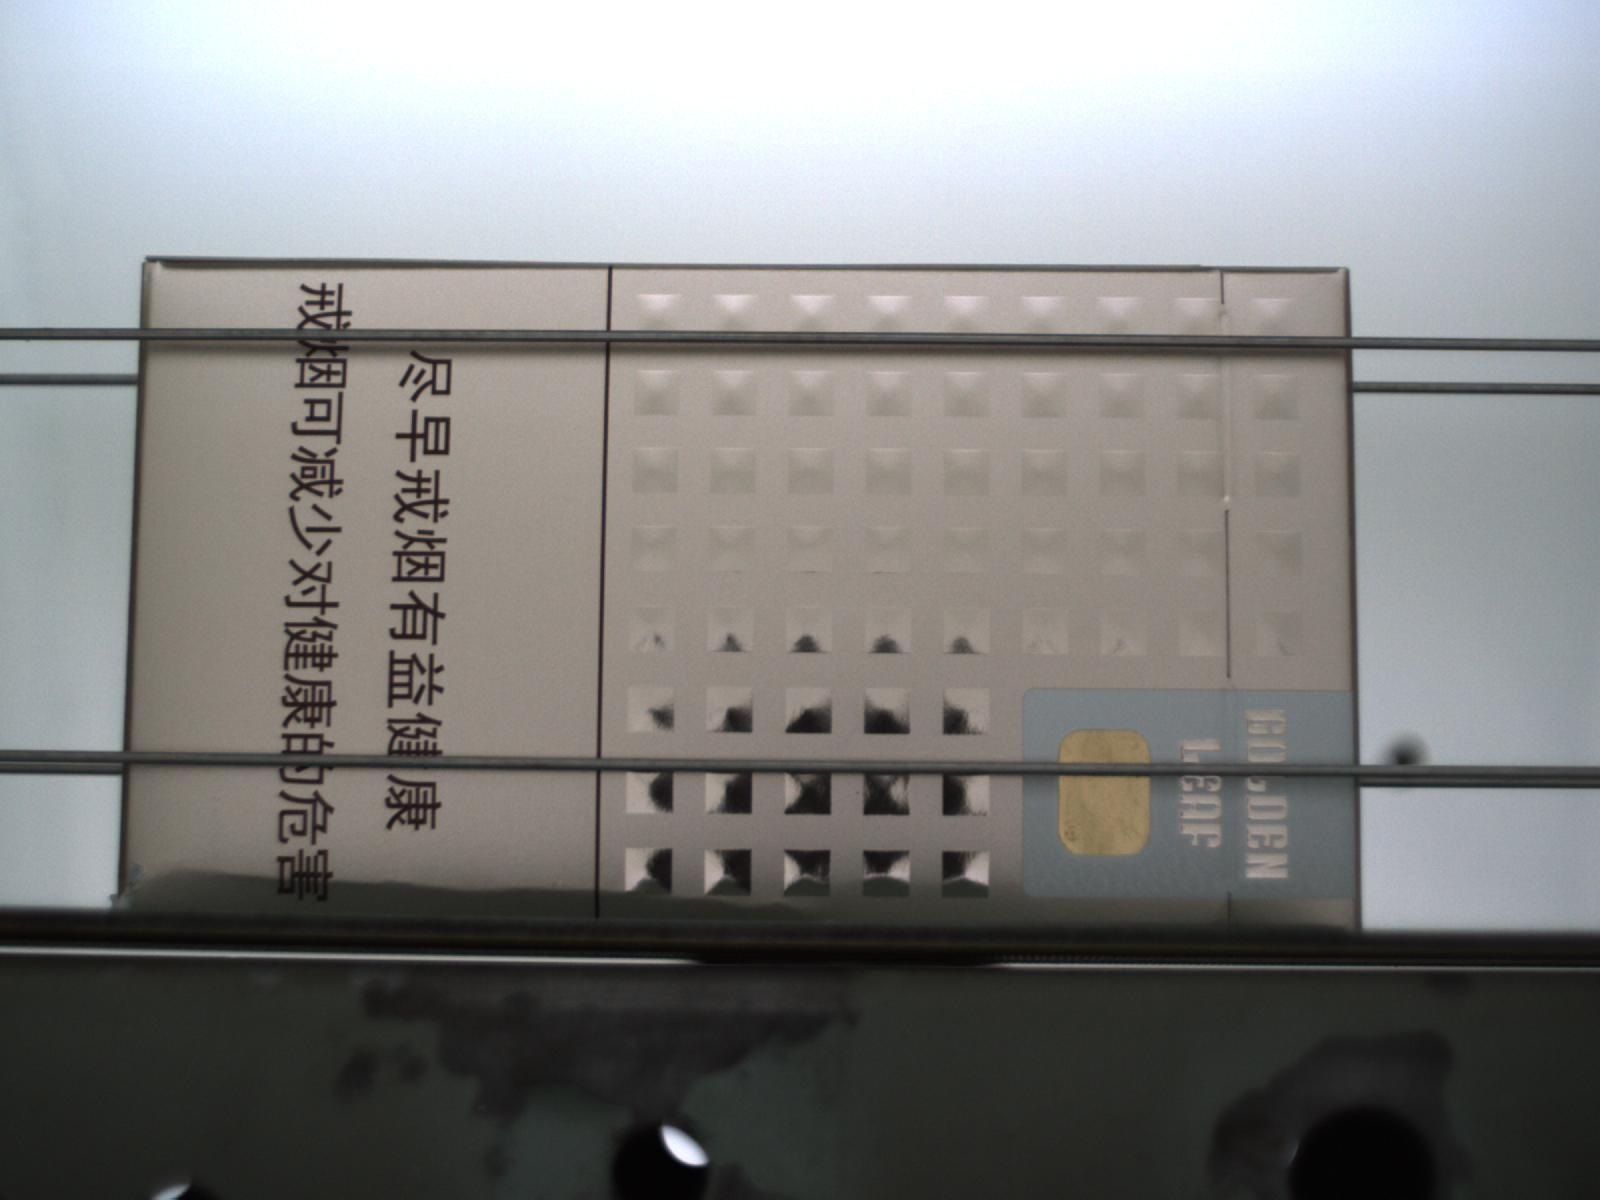boxDamage_slight: (47, 872, 1380, 948)
dirtyScratch: (101, 866, 840, 932)
skewed_upper_0: (105, 862, 156, 919)
